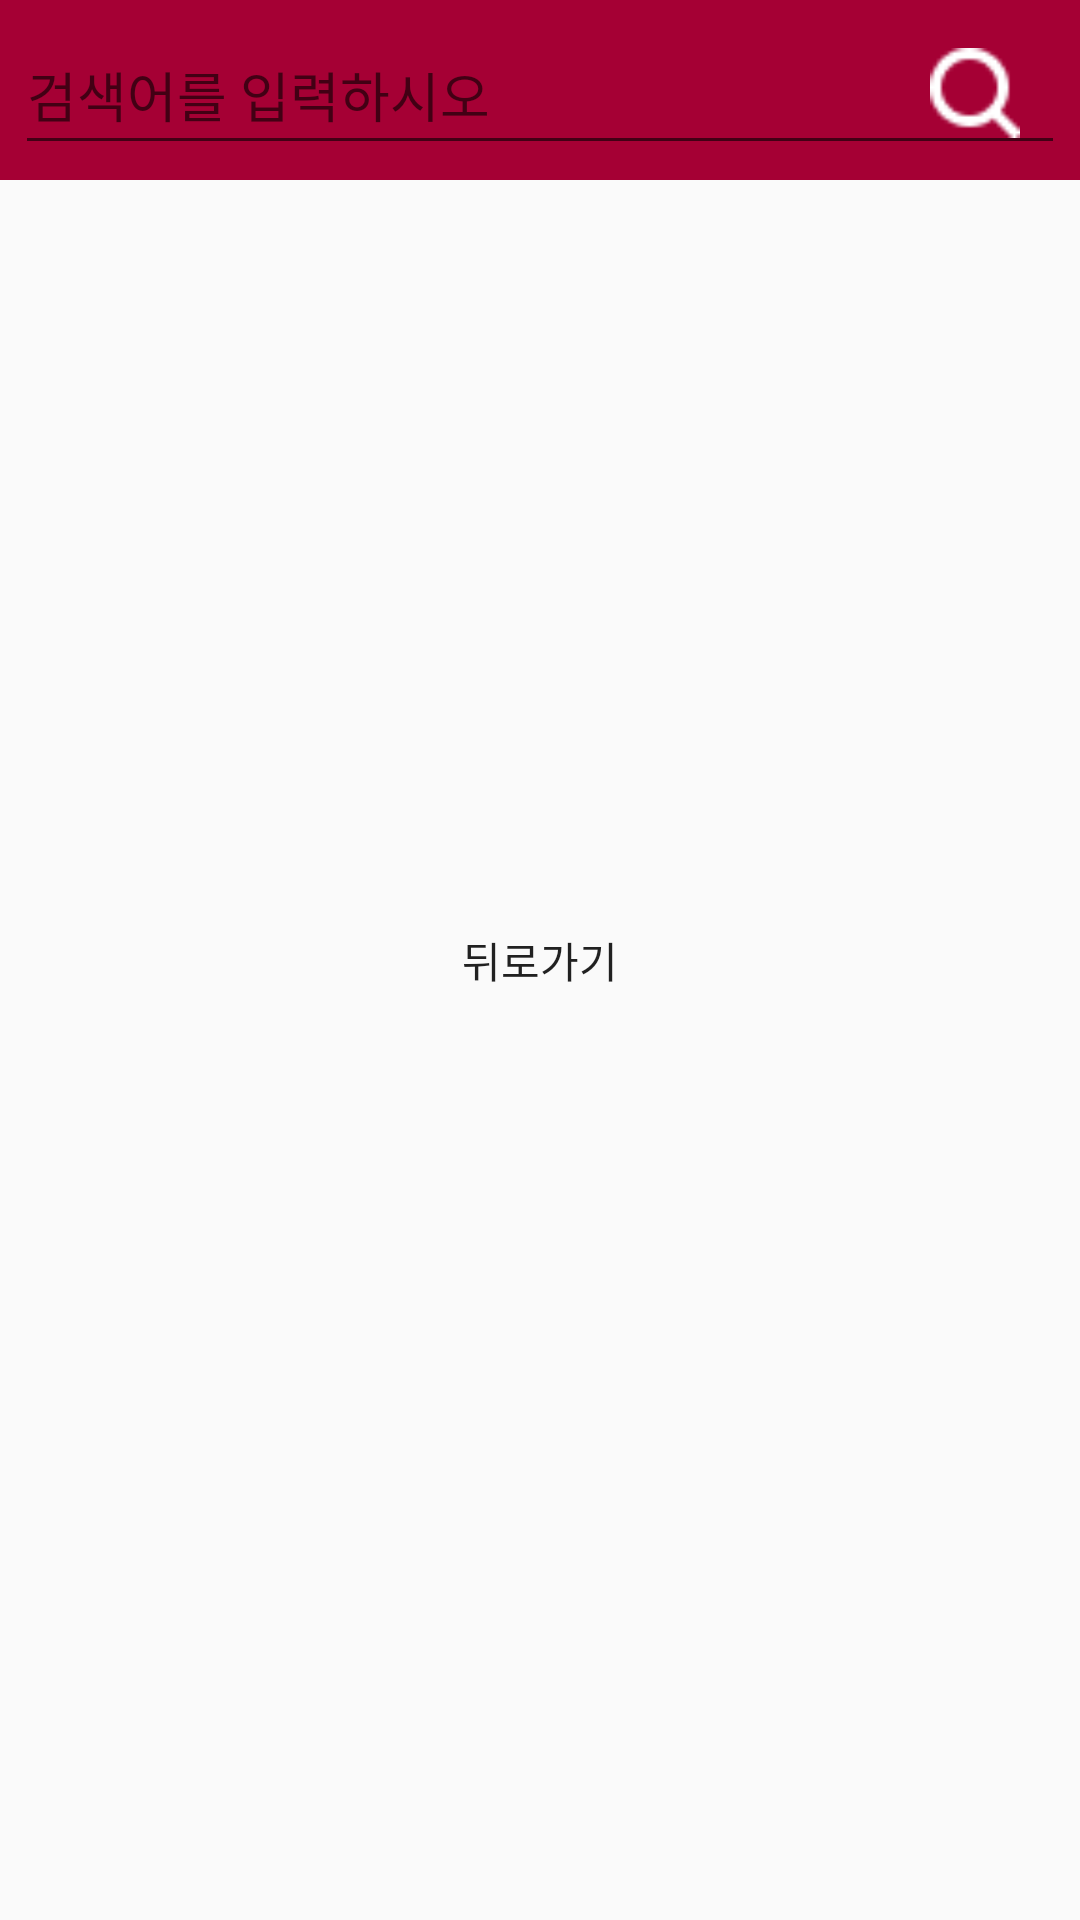

Icons on this 1080 × 1920 Android screen, each with its box as region(x1, y1, x2, y2):
search: region(930, 48, 1020, 138)
